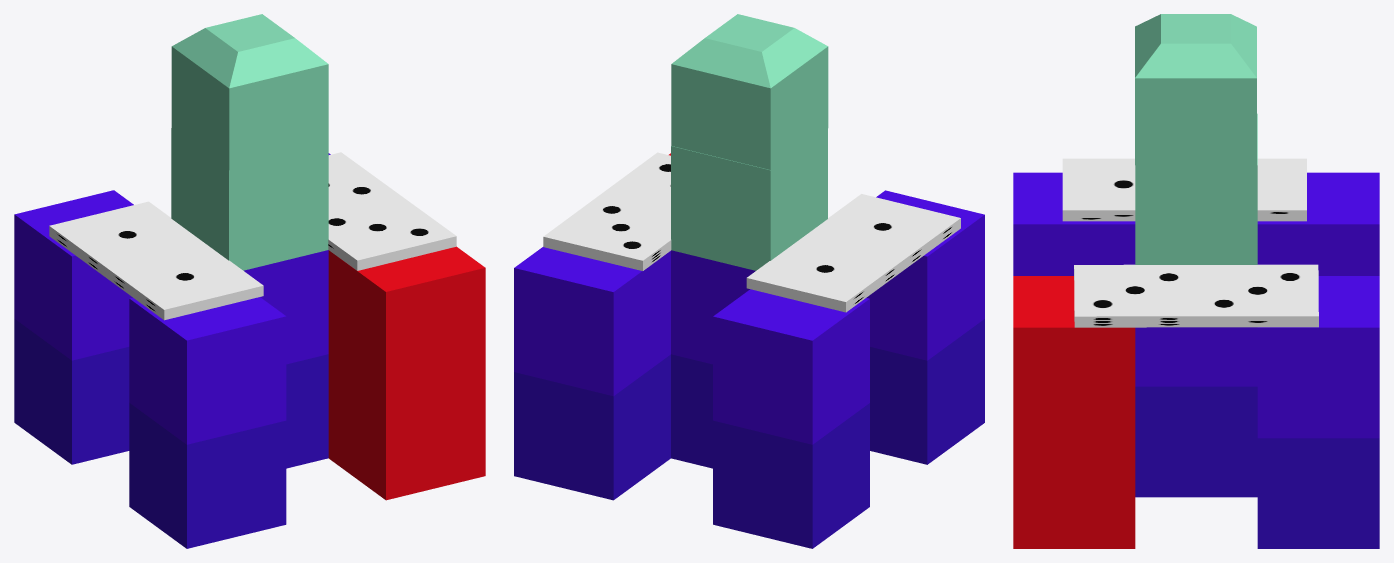
Rendered from blocks_3.glb.
3 views of the same model, side by side, from view 1: azimuth 30°, elevation 25°; view 2: azimuth 150°, elevation 25°; view 3: azimuth 270°, elevation 25° (orthographic). The views are drawn at different scales.
Parts seen in each view (by area): view 1: Cube.005, Cube.016, Cube.001, Cube, Cube.015, Cube.008, Cube.004, Cube.003, Cube.002, Cube.012, Cube.013, Cube.007 (+2 smaller); view 2: Cube.004, Cube.005, Cube.018, Cube.017, Cube.003, Cube.008, Cube, Cube.001, Cube.013, Cube.011, Cube.002, Cube.007 (+2 smaller); view 3: Cube.005, Cube.016, Cube.018, Cube.006, Cube.015, Cube.017, Cube.008, Cube.004, Cube.001, Cube.011, Cube.012, Cube.007 (+2 smaller).
Part boxes in pixels (<box>): Cube.005: <box>171,14,328,170</box>; Cube.016: <box>328,246,485,395</box>; Cube.001: <box>129,297,286,444</box>; Cube: <box>129,403,286,548</box>; Cube.015: <box>328,354,485,500</box>; Cube.008: <box>171,128,328,270</box>; Cube.004: <box>14,190,133,360</box>; Cube.003: <box>14,319,129,464</box>; Cube.002: <box>106,244,263,320</box>; Cube.012: <box>328,194,456,270</box>; Cube.013: <box>49,201,205,277</box>; Cube.007: <box>244,250,328,364</box>; Cube.004: <box>713,289,869,444</box>; Cube.005: <box>671,14,828,169</box>; Cube.018: <box>514,247,670,396</box>; Cube.017: <box>514,354,670,500</box>; Cube.003: <box>713,403,869,548</box>; Cube.008: <box>671,128,827,270</box>; Cube: <box>870,319,984,464</box>; Cube.001: <box>866,190,984,360</box>; Cube.013: <box>746,236,903,312</box>; Cube.011: <box>543,194,671,270</box>; Cube.002: <box>805,194,960,269</box>; Cube.007: <box>671,250,755,364</box>; Cube.005: <box>1135,14,1256,165</box>; Cube.016: <box>1013,276,1135,438</box>; Cube.018: <box>1257,276,1379,438</box>; Cube.006: <box>1135,386,1257,497</box>; Cube.015: <box>1013,438,1135,548</box>; Cube.017: <box>1257,438,1379,548</box>; Cube.008: <box>1135,113,1257,264</box>; Cube.004: <box>1257,172,1379,275</box>; Cube.001: <box>1013,172,1135,275</box>; Cube.011: <box>1196,264,1318,327</box>; Cube.012: <box>1074,264,1196,327</box>; Cube.007: <box>1135,327,1257,386</box>.
Size of the model in its own units: 6 by 8 by 6.
13 materials, 1 textured.
